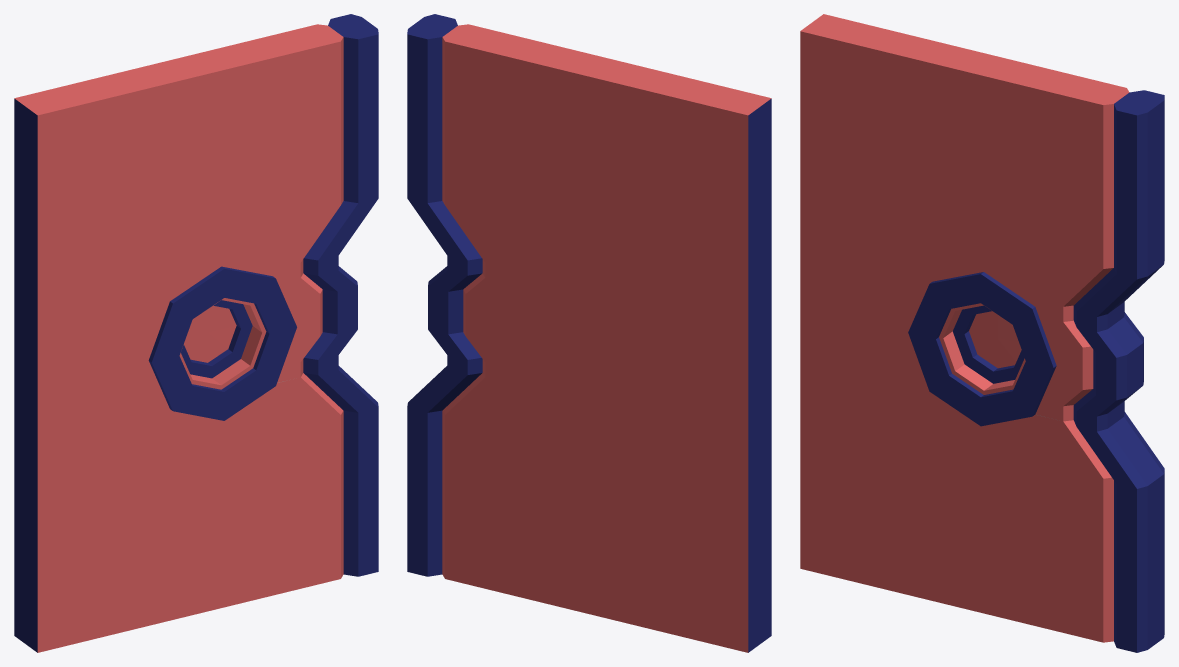
File: door1zone.fbx
3 views of the same model, side by side, from view 1: azimuth 30°, elevation 25°; view 2: azimuth 150°, elevation 25°; view 3: azimuth 330°, elevation 25° (orthographic).
Visible parts, largest first — view 1: pCube5; view 2: pCube5; view 3: pCube5.
Boxes of the visible parts, x1,y1,x2,y2 form: pCube5: [14, 14, 378, 652]; pCube5: [407, 14, 771, 652]; pCube5: [800, 14, 1164, 652].
Size of the model in its own units: 8.45 by 12.61 by 1.22.
